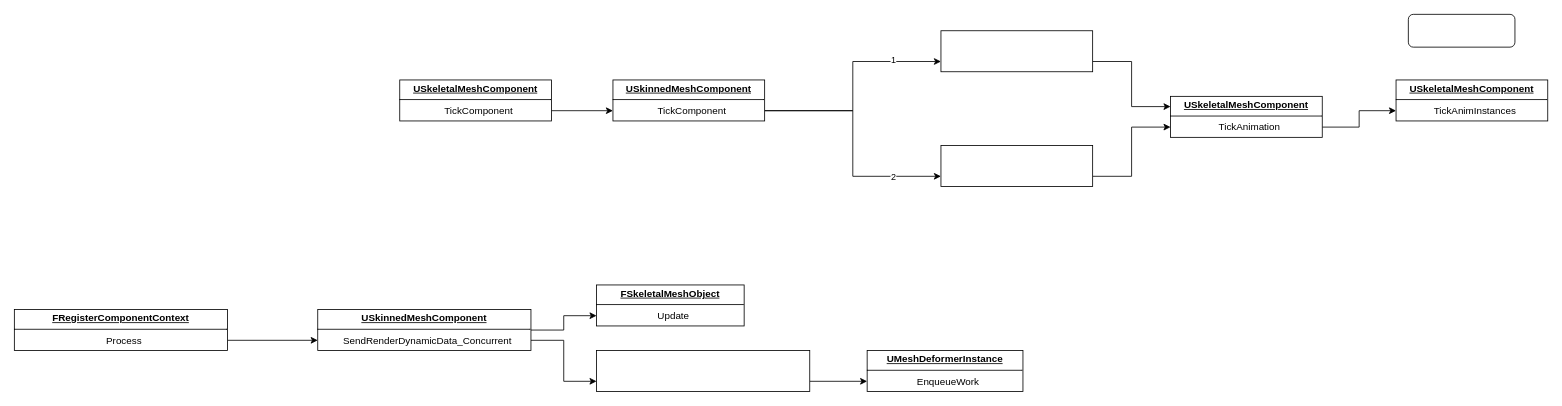
Some shapes in this 1562 by 406 pixel diagram are drawn without their labels. The shapes that lost their labels are listed below. From the top down, each one's centre as x and y in pixels, then its label:
At point (1461, 30): "TickAnimInstances".
At point (1016, 51): "USkeletalMeshComponent TickPose".
At point (1016, 166): "USkeletalMeshComponent RefreshBoneTransforms".
At point (703, 371): "USkinnedMeshComponent GetMeshDeformerInstanceForLOD".
